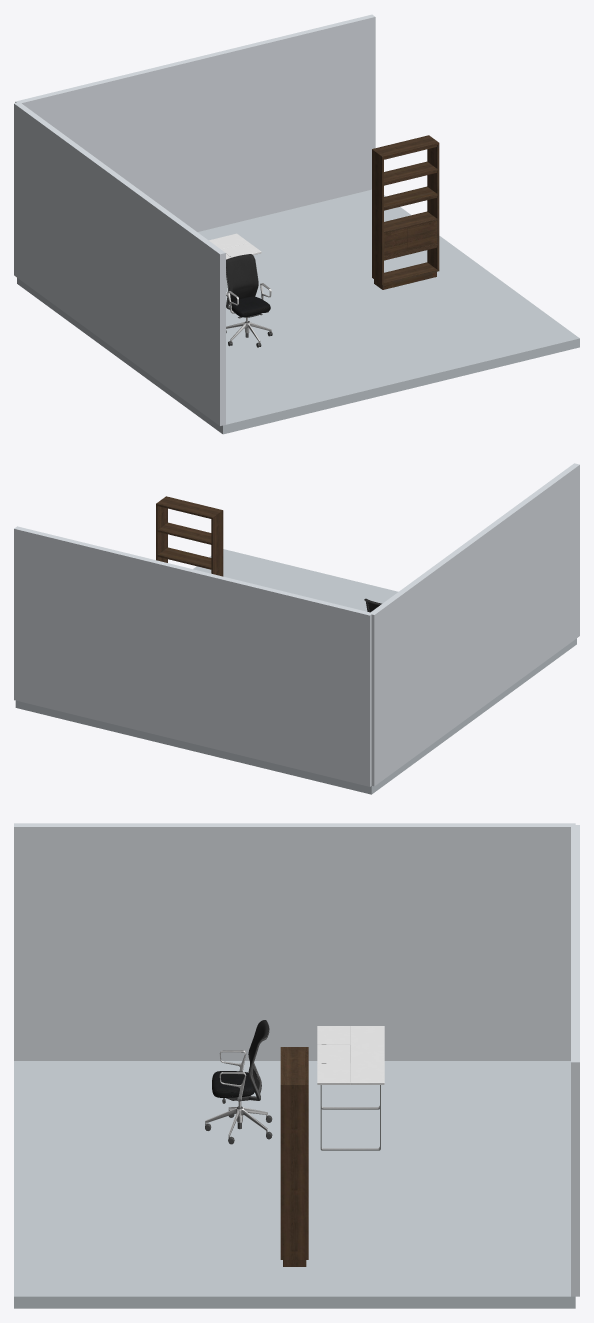
Rendered from stage1.glb.
3 renders of one model, top to bottom at view 1: azimuth 30°, elevation 25°; view 2: azimuth 150°, elevation 25°; view 3: azimuth 270°, elevation 25°, orthographic. The views are drawn at different scales.
Visible parts, largest first — view 1: Floor, wall_back, wall_left, raw_model.002, raw_model.001, raw_model; view 2: wall_back, wall_left, Floor, raw_model.002; view 3: wall_left, Floor, raw_model.002, raw_model, wall_back, raw_model.001.
Part boxes in pixels (bbox=[...]): Floor: bbox=[17, 189, 579, 434]; wall_back: bbox=[15, 14, 375, 231]; wall_left: bbox=[14, 102, 225, 425]; raw_model.002: bbox=[372, 135, 439, 289]; raw_model.001: bbox=[226, 254, 272, 347]; raw_model: bbox=[209, 233, 261, 295]; wall_back: bbox=[14, 526, 372, 786]; wall_left: bbox=[370, 463, 579, 786]; Floor: bbox=[15, 549, 576, 794]; raw_model.002: bbox=[156, 496, 223, 576]; wall_left: bbox=[14, 823, 575, 1060]; Floor: bbox=[14, 1061, 575, 1308]; raw_model.002: bbox=[280, 1047, 308, 1266]; raw_model: bbox=[317, 1026, 384, 1150]; wall_back: bbox=[571, 825, 579, 1296]; raw_model.001: bbox=[205, 1020, 272, 1144].
Size of the model in its own units: 5.04 by 2.42 by 5.04.
5 materials, 3 textured.
